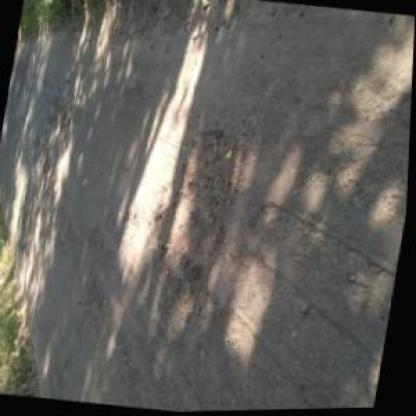pothole: (142, 115, 248, 294)
